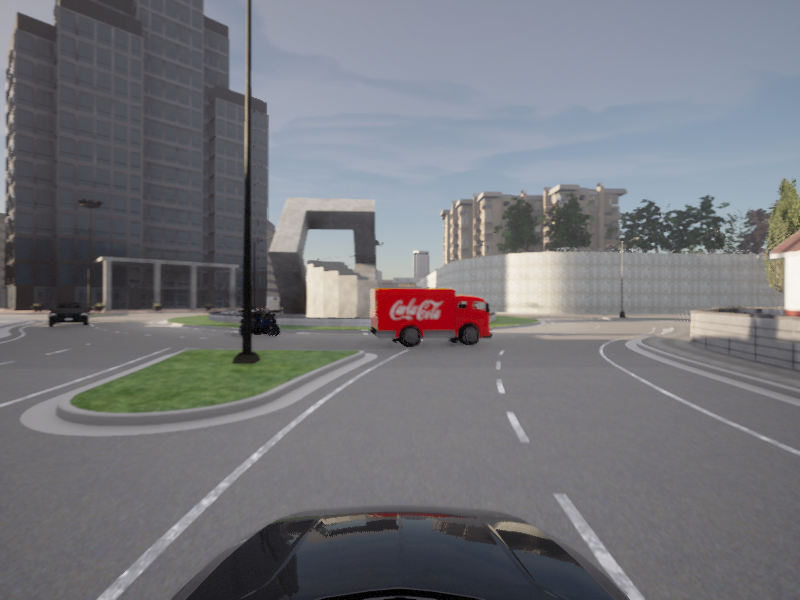vehicle: (368, 287, 498, 349), (235, 307, 283, 338), (47, 301, 89, 328)
